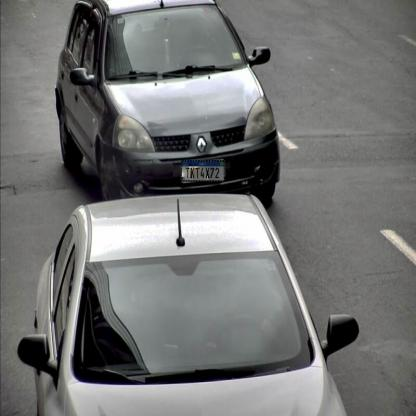PlacaM: (181, 160, 225, 182)
